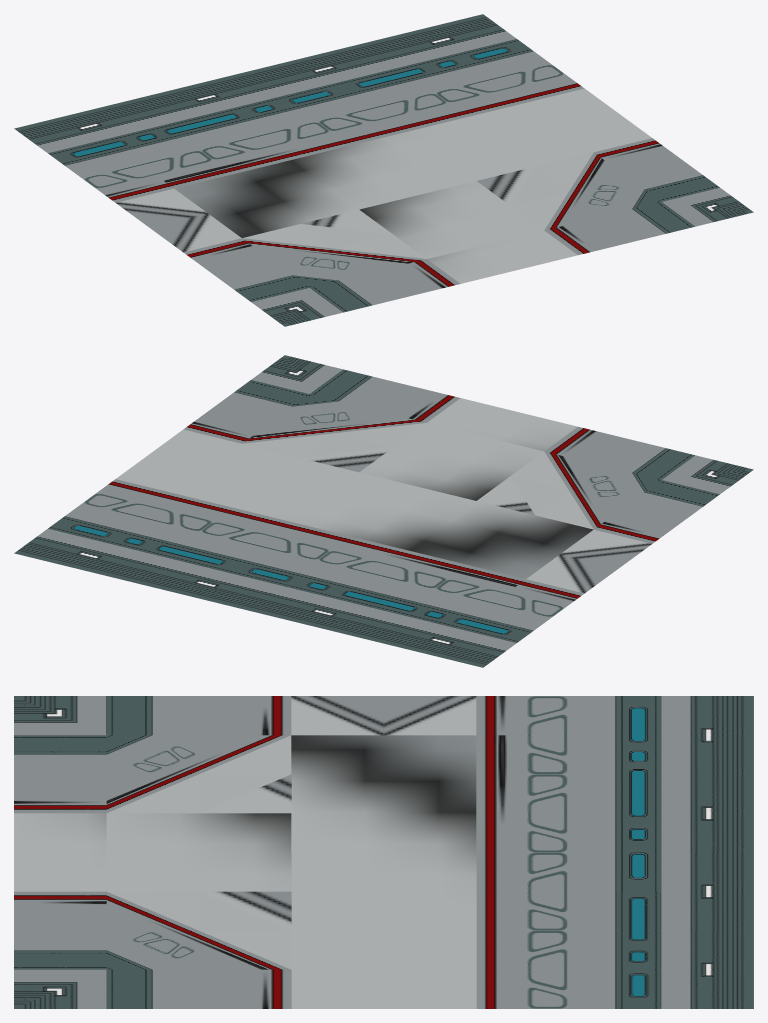
File: Corridor3opening.fbx
The picture shows the model from 3 angles, top to bottom: view 1: azimuth 30°, elevation 25°; view 2: azimuth 150°, elevation 25°; view 3: azimuth 270°, elevation 25°; orthographic projection. The views are drawn at different scales.
Visible parts, largest first — view 1: 3x3corridor.004; view 2: 3x3corridor.004; view 3: 3x3corridor.004.
Boxes of the visible parts, box(x1,y1,x2,y2) form: 3x3corridor.004: box(14, 14, 753, 326); 3x3corridor.004: box(14, 355, 753, 667); 3x3corridor.004: box(14, 696, 753, 1008).
Size of the model in its own units: 600 by 600 by 0.
